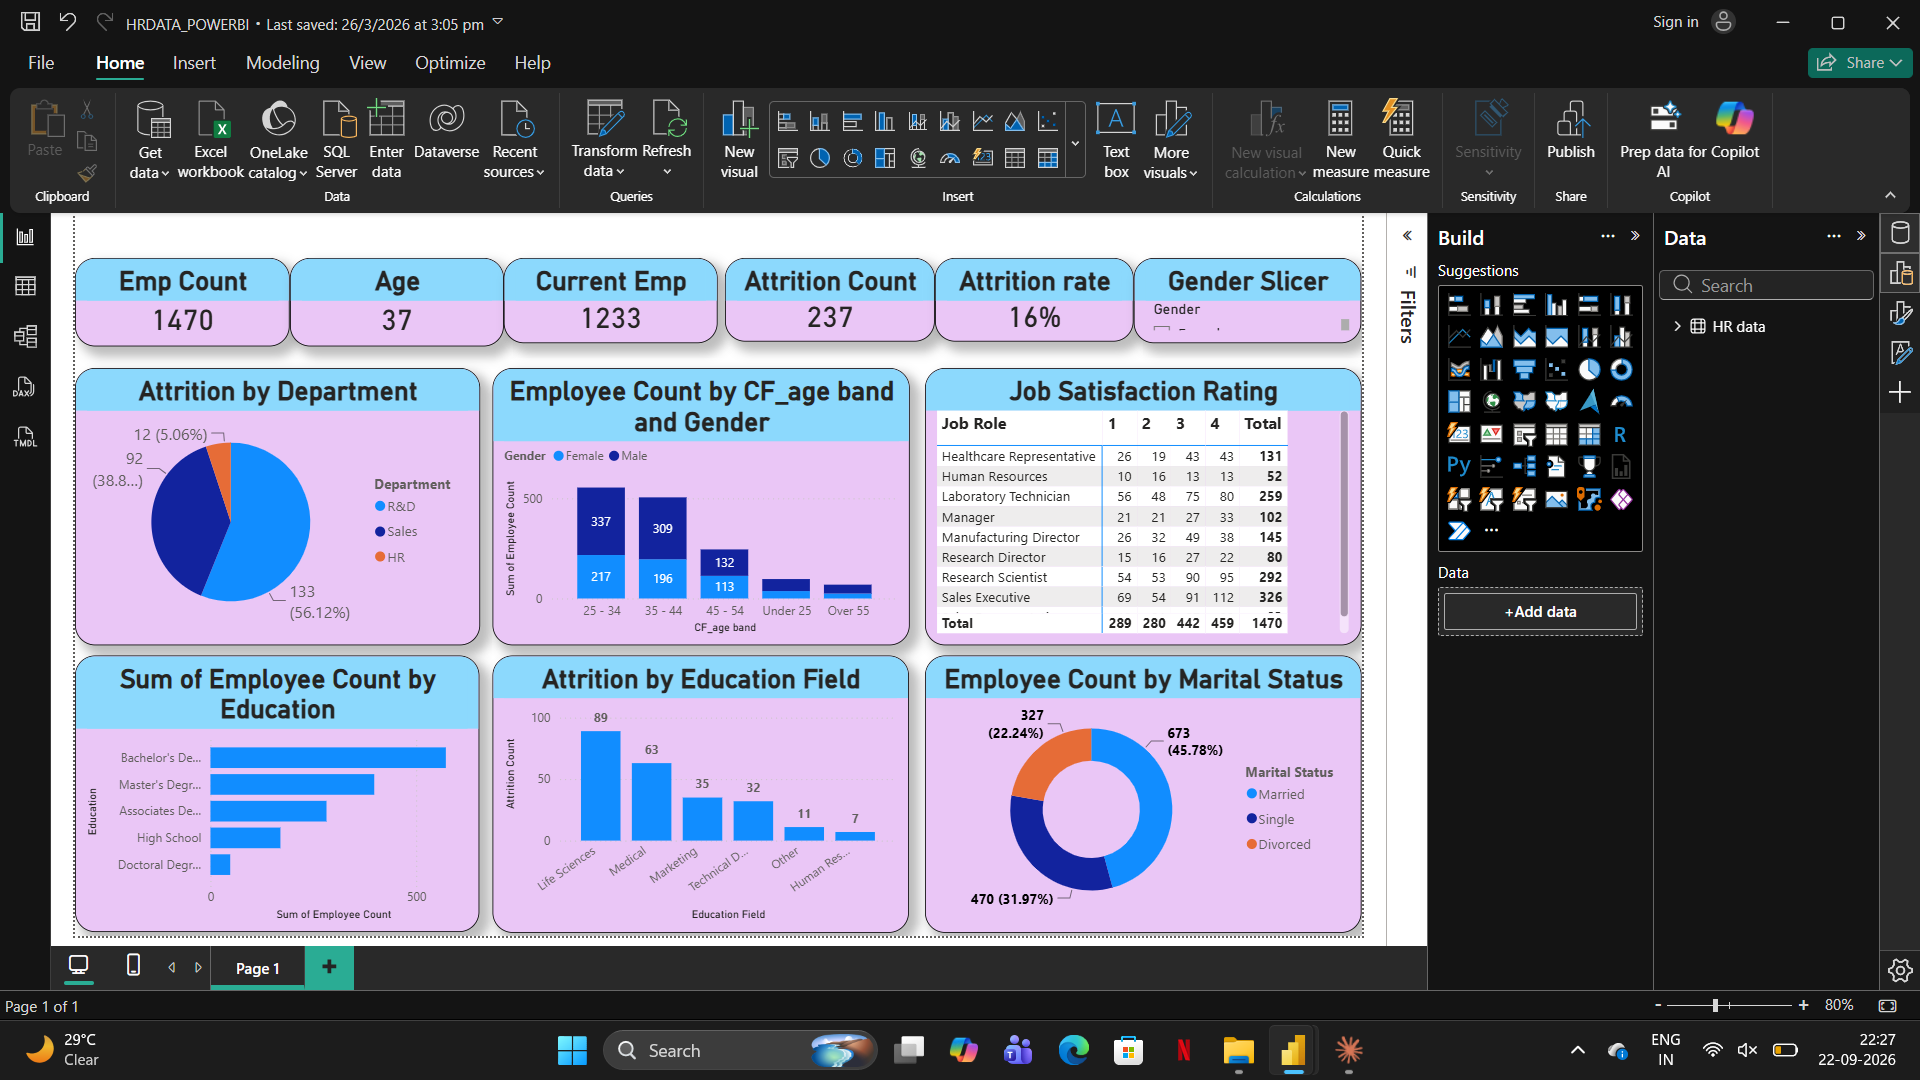

Layout of this report page (visuals, bound fields, positions):
{"tool":"powerbi","page":{"name":"Page 1","canvas":[1280,720],"ordinal":0},"visuals":[{"type":"card","title":"Emp Count","fields":{"Values":["Sum(HR data.Employee Count)"]},"box":[0,44.8,214,88.3],"z":0},{"type":"card","title":"Age","fields":{"Values":["Avg(HR data.Age)"]},"box":[214,44.8,212.7,88.3],"z":1000},{"type":"card","title":"Current Emp","fields":{"Values":["Sum(HR data.CF_current Employee)"]},"box":[426.7,44.8,212.7,84.6],"z":2000},{"type":"card","title":"Attrition Count","fields":{"Values":["HR data.Attrition Count"]},"box":[646.9,44.8,209,83.3],"z":3000},{"type":"card","title":"Attrition rate","fields":{"Values":["HR data.Attrition rate"]},"box":[855.8,44.8,197.8,83.3],"z":4000},{"type":"pieChart","title":"Attrition by Department","fields":{"Category":["HR data.Department"],"Y":["HR data.Attrition Count"]},"box":[0,154.3,403,276.2],"z":5000},{"type":"columnChart","title":"Employee Count by CF_age band and Gender","fields":{"Category":["HR data.CF_age band"],"Series":["HR data.Gender"],"Y":["Sum(HR data.Employee Count)"]},"box":[415.5,154.3,415.5,276.2],"z":6000},{"type":"pivotTable","title":"Job Satisfaction Rating","fields":{"Columns":["HR data.Job Satisfaction"],"Rows":["HR data.Job Role"],"Values":["Sum(HR data.Employee Count)"]},"box":[845.9,154.3,434.1,276.2],"z":7000},{"type":"barChart","fields":{"Category":["HR data.Education"],"Y":["Sum(HR data.Employee Count)"]},"box":[0,440,402.5,275.6],"z":8000},{"type":"clusteredColumnChart","title":"Attrition by Education Field","fields":{"Category":["HR data.Education Field"],"Y":["HR data.Attrition Count"]},"box":[416,440,414,276],"z":9000},{"type":"donutChart","title":"Employee Count by Marital Status","fields":{"Category":["HR data.Marital Status"],"Y":["Sum(HR data.Employee Count)"]},"box":[846,440,434,276],"z":10000},{"type":"slicer","title":"Gender Slicer ","fields":{"Values":["HR data.Gender"]},"box":[1053.6,44.8,226.4,84.6],"z":11000}]}

Visuals, with their boxes on the page's 1280x720 design canvas (x1, y1, x2, y2). These are canvas units, not pixel positions in the 1920x1080 screenshot, which may show the page scaled, cropped or inside an application window:
"Emp Count" card: detection(0, 45, 214, 133)
"Age" card: detection(214, 45, 427, 133)
"Current Emp" card: detection(427, 45, 639, 129)
"Attrition Count" card: detection(647, 45, 856, 128)
"Attrition rate" card: detection(856, 45, 1054, 128)
"Attrition by Department" pieChart: detection(0, 154, 403, 430)
"Employee Count by CF_age band and Gender" columnChart: detection(416, 154, 831, 430)
"Job Satisfaction Rating" pivotTable: detection(846, 154, 1280, 430)
barChart - HR data.Education x Sum(HR data.Employee Count): detection(0, 440, 402, 716)
"Attrition by Education Field" clusteredColumnChart: detection(416, 440, 830, 716)
"Employee Count by Marital Status" donutChart: detection(846, 440, 1280, 716)
"Gender Slicer " slicer: detection(1054, 45, 1280, 129)
